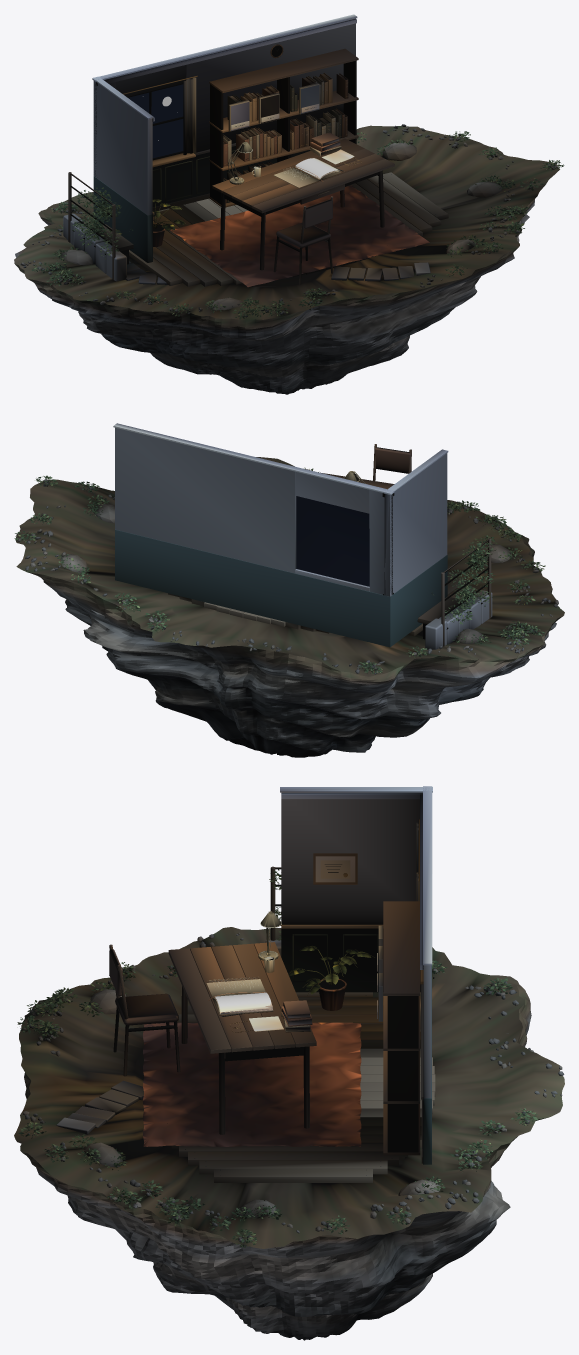
Rendered from flight-writing-59650b5b.glb.
3 views of the same model, one above another, from view 1: azimuth 30°, elevation 25°; view 2: azimuth 150°, elevation 25°; view 3: azimuth 270°, elevation 25° (orthographic). The views are drawn at different scales.
Visible parts, largest first — view 1: Writing island · flight.001; view 2: Writing island · flight.001; view 3: Writing island · flight.001.
Boxes of the visible parts, <box> form: Writing island · flight.001: <box>14,14,564,394</box>; Writing island · flight.001: <box>14,423,564,757</box>; Writing island · flight.001: <box>14,786,564,1340</box>.
Size of the model in its own units: 12.01 by 7.17 by 8.14.
